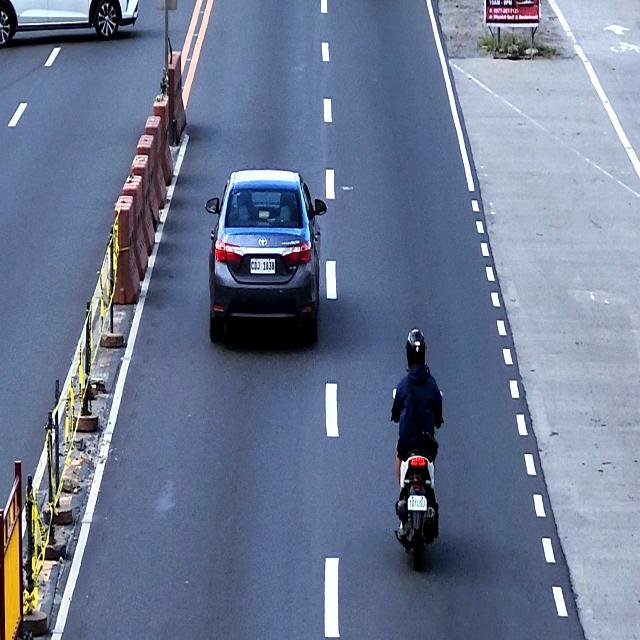Car: (205, 168, 327, 342), (0, 0, 142, 49)
License-Plate: (249, 256, 276, 275), (407, 495, 428, 513)
Motorcycle: (390, 388, 443, 571)
